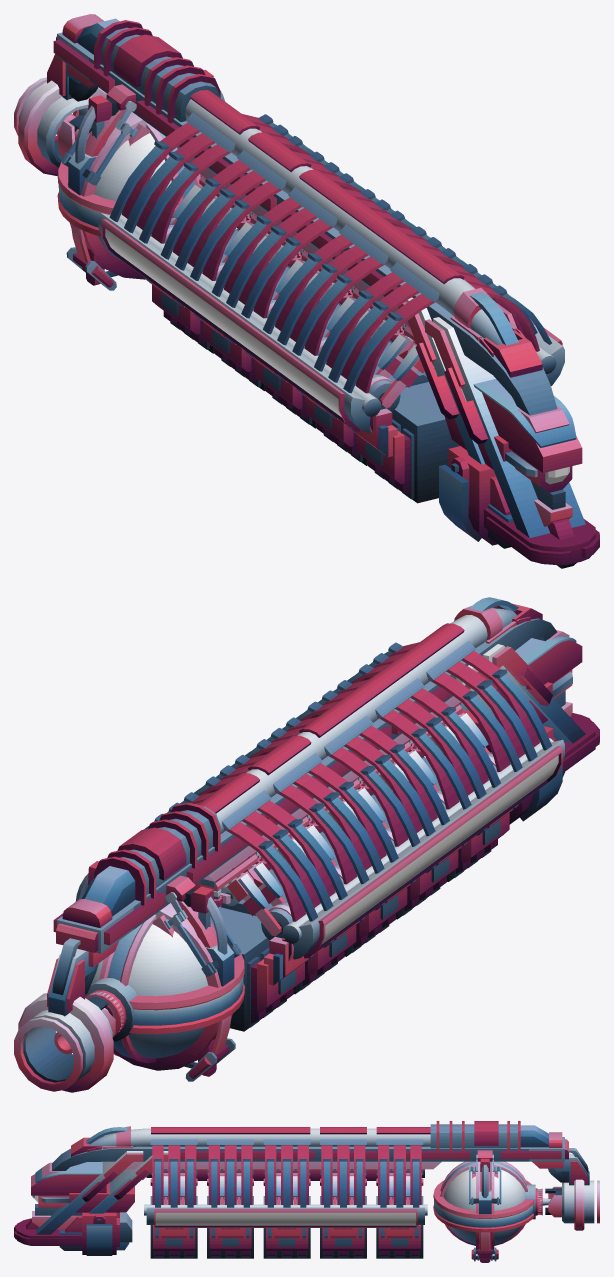
The model's file is train.glb.
3 views of the same model, one above another, from view 1: azimuth 30°, elevation 25°; view 2: azimuth 150°, elevation 25°; view 3: azimuth 270°, elevation 25° (orthographic). The views are drawn at different scales.
Parts seen in each view (by area): view 1: Cube.003; view 2: Cube.003; view 3: Cube.003.
Boxes of the visible parts, x1,y1,x2,y2 form: Cube.003: (14,14,599,568); Cube.003: (14,597,599,1092); Cube.003: (14,1121,599,1262).
Size of the model in its own units: 6.04 by 5.9 by 24.94.
Materials: 2 (1 with a texture image).
